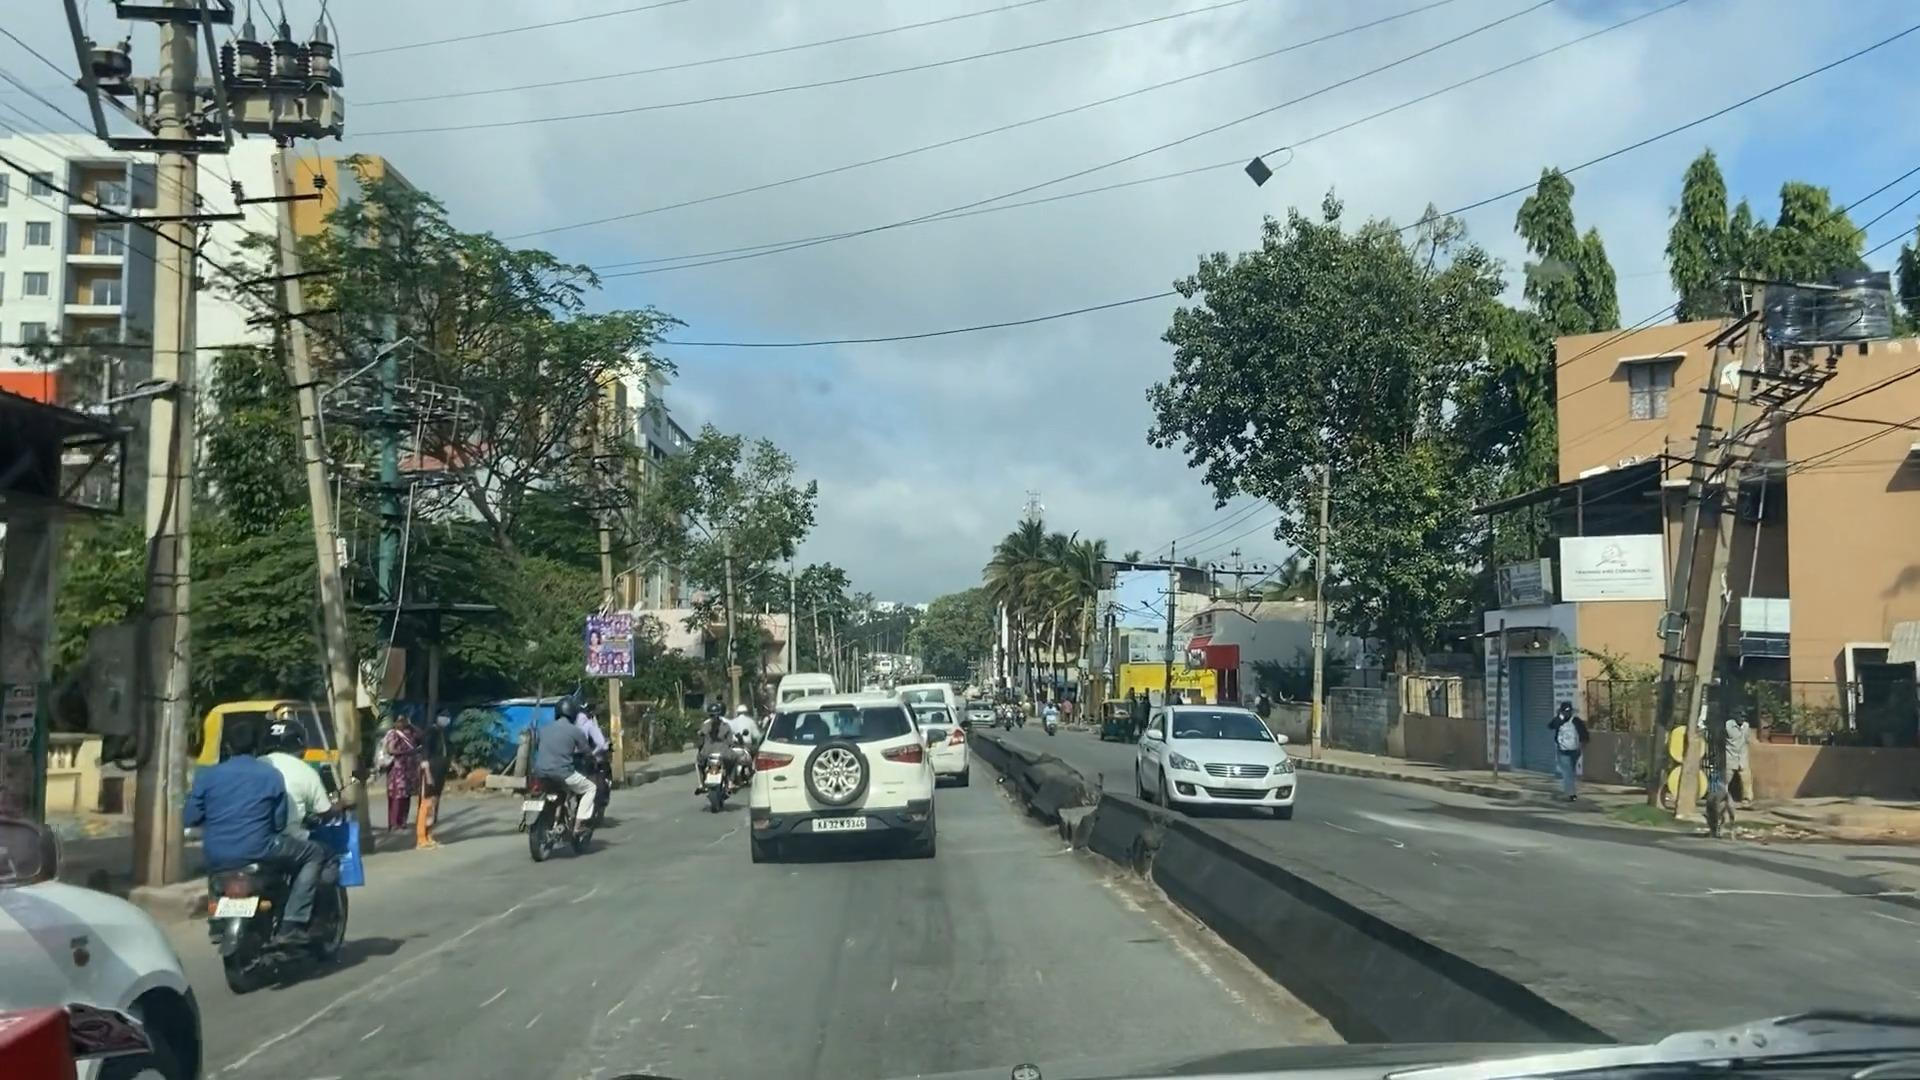LMV: (206, 723, 348, 957), (758, 707, 935, 849), (516, 707, 603, 839)
RoadDamages: (270, 889, 574, 1052)
